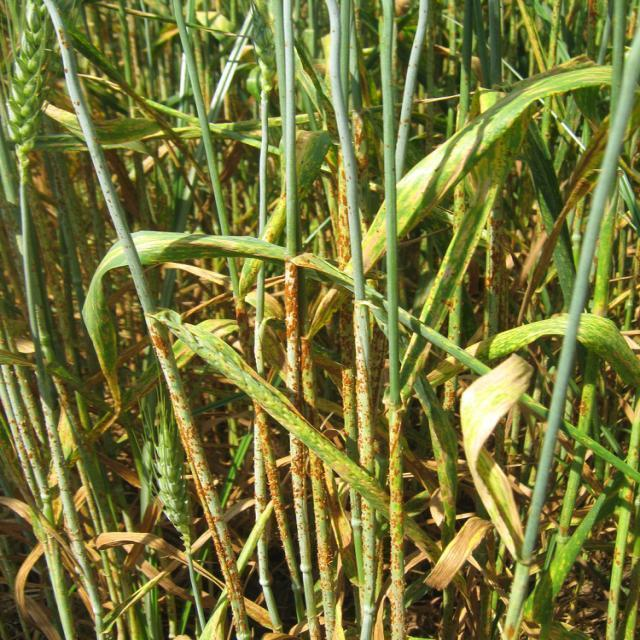Stem Rust: (144, 300, 403, 639), (283, 262, 300, 398)
